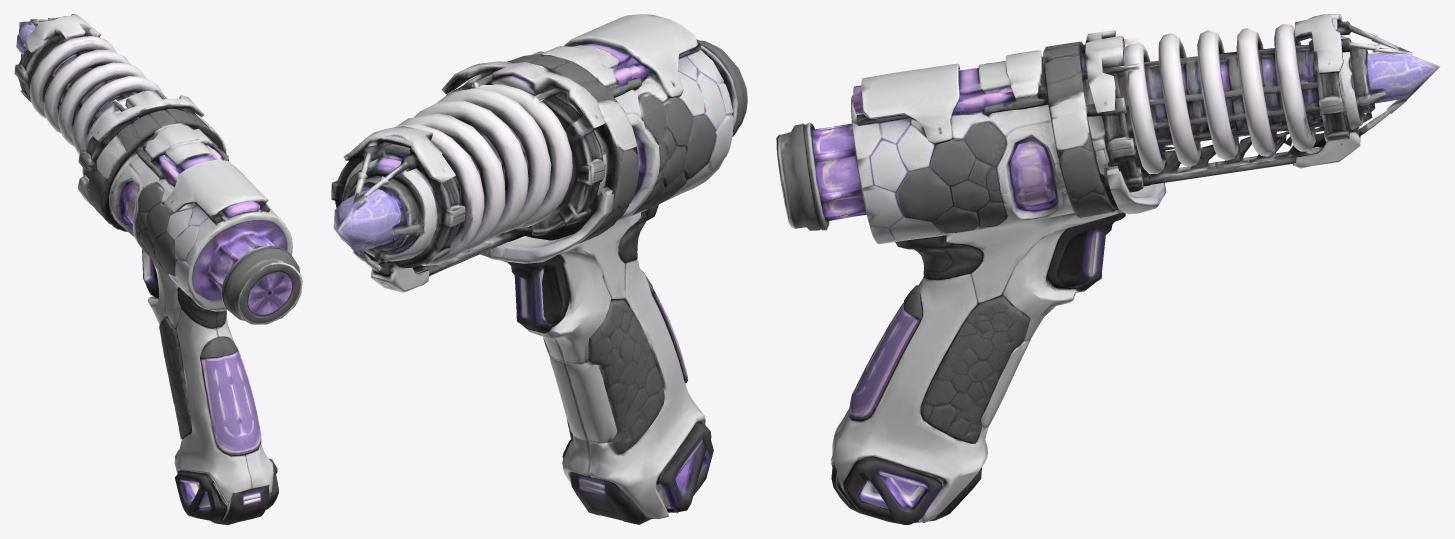
File: bp-arco.glb
3 views of the same model, side by side, from view 1: azimuth 30°, elevation 25°; view 2: azimuth 150°, elevation 25°; view 3: azimuth 270°, elevation 25° (orthographic). The views are drawn at different scales.
Visible parts, largest first — view 1: tripo_node_c5e00a9c-ee1a-4ef7-b9b4-d21f8ac64b5d; view 2: tripo_node_c5e00a9c-ee1a-4ef7-b9b4-d21f8ac64b5d; view 3: tripo_node_c5e00a9c-ee1a-4ef7-b9b4-d21f8ac64b5d.
Part boxes in pixels (x1,y1,x2,y2): tripo_node_c5e00a9c-ee1a-4ef7-b9b4-d21f8ac64b5d: (14,14,302,524); tripo_node_c5e00a9c-ee1a-4ef7-b9b4-d21f8ac64b5d: (331,14,747,524); tripo_node_c5e00a9c-ee1a-4ef7-b9b4-d21f8ac64b5d: (776,14,1440,524).
Size of the model in its own units: 0.2815 by 0.8083 by 0.9815.
Materials: 1 (1 with a texture image).
